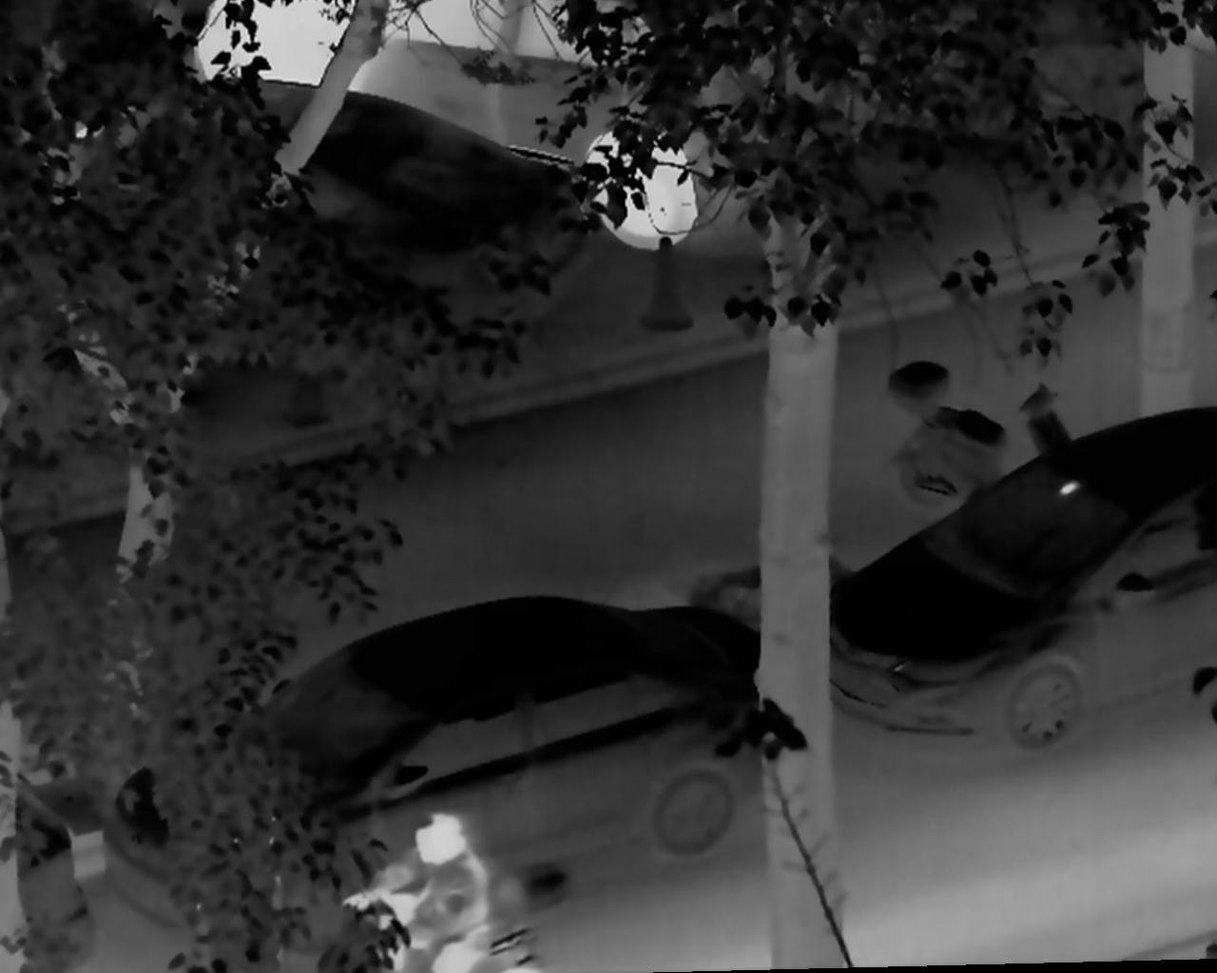person: (336, 810, 489, 970)
